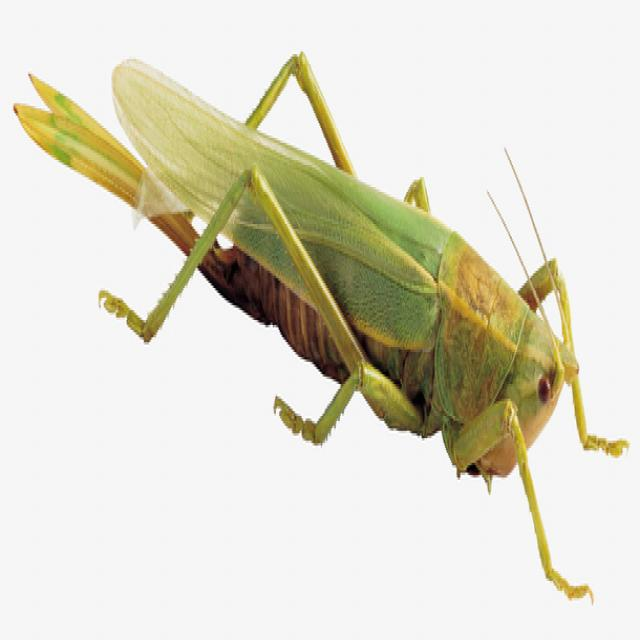ZhaMeng: (26, 31, 619, 587)
